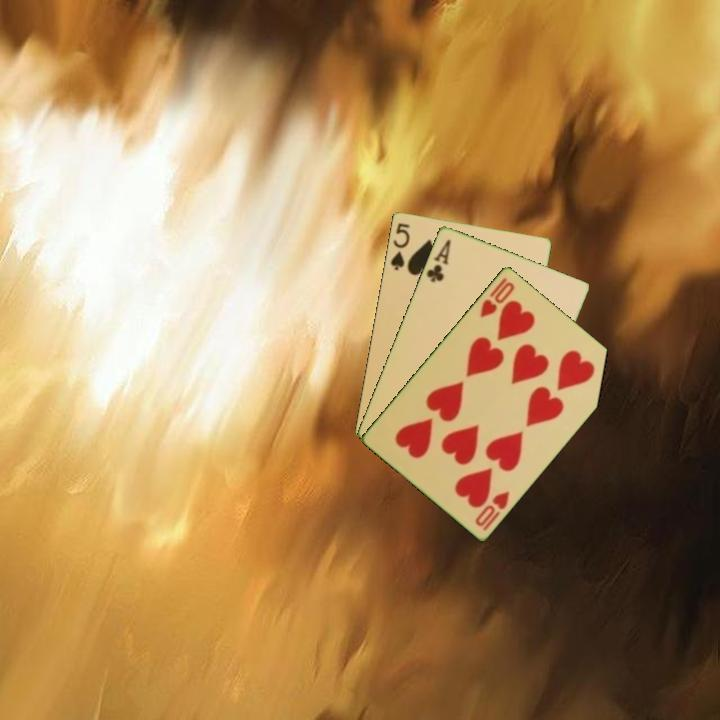10h: (476, 274, 517, 321), (471, 487, 512, 533)
5s: (387, 219, 413, 273)
Ac: (423, 235, 454, 285)
